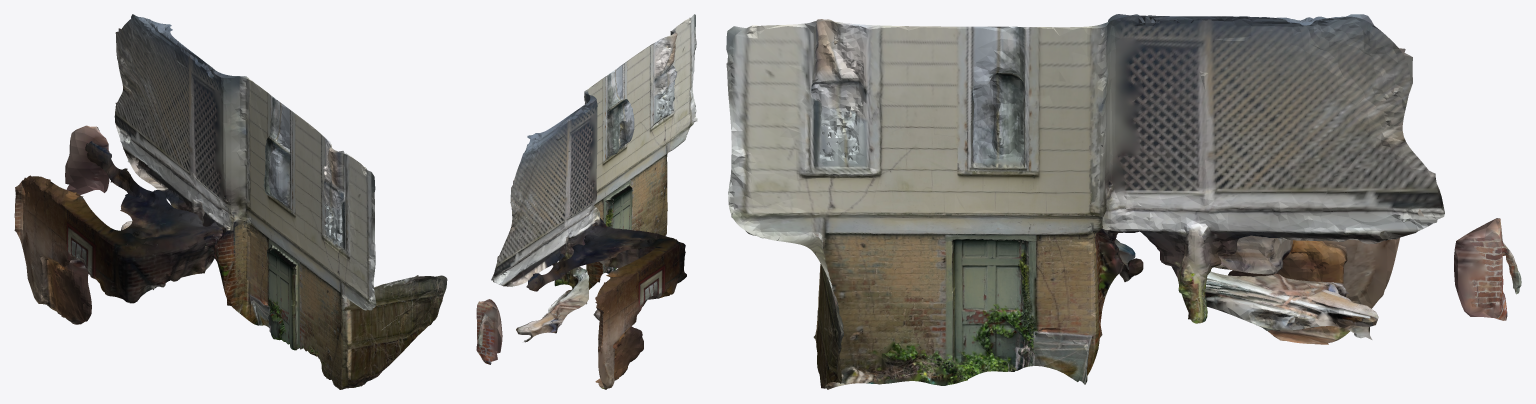
The model's file is scan_2.dae.
3 views of the same model, side by side, from view 1: azimuth 30°, elevation 25°; view 2: azimuth 150°, elevation 25°; view 3: azimuth 270°, elevation 25° (orthographic). The views are drawn at different scales.
Visible parts, largest first — view 1: node; view 2: node; view 3: node.
Boxes of the visible parts, x1,y1,x2,y2 form: node: (14, 14, 447, 389); node: (476, 14, 697, 389); node: (726, 14, 1521, 389).
Bounding box in the file's own units: 4.68 × 5.1 × 9.54.
Materials: 1 (1 with a texture image).
